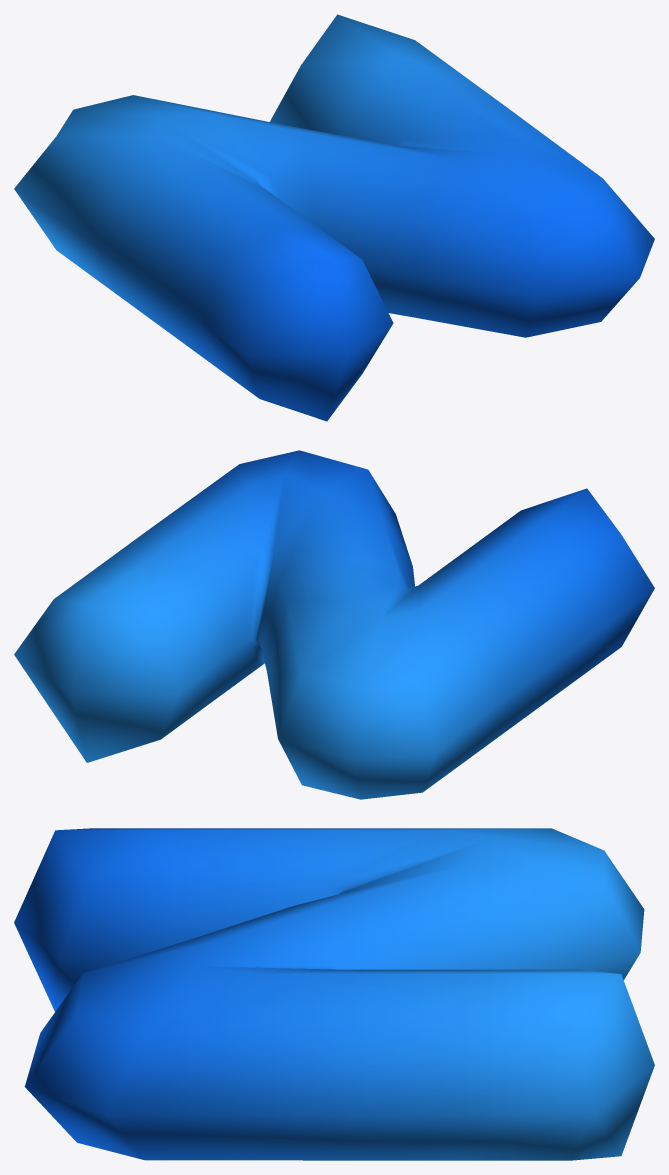
Rendered from CartoonFont_N.FBX.
The picture shows the model from 3 angles, top to bottom: view 1: azimuth 30°, elevation 25°; view 2: azimuth 150°, elevation 25°; view 3: azimuth 270°, elevation 25°; orthographic projection. The views are drawn at different scales.
Parts seen in each view (by area): view 1: N; view 2: N; view 3: N.
Boxes of the visible parts, box(x1,y1,x2,y2) form: N: box(14, 14, 654, 421); N: box(14, 450, 654, 799); N: box(14, 828, 654, 1160).
Bounding box in the file's own units: 27.1 × 9.68 × 30.87.
Materials: 1 (1 with a texture image).
